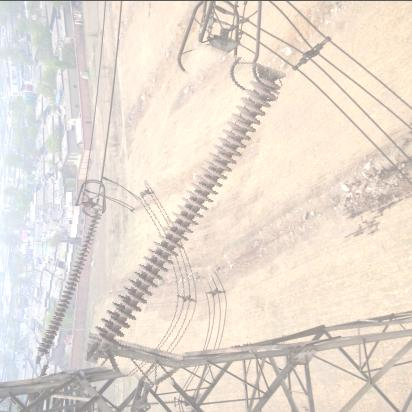insulator: (109, 44, 261, 388), (38, 205, 100, 368)
